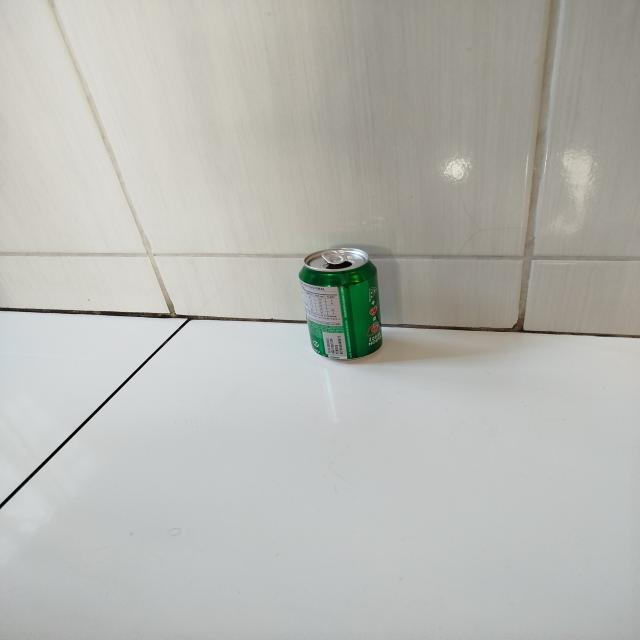Guarana: (298, 247, 382, 361)
